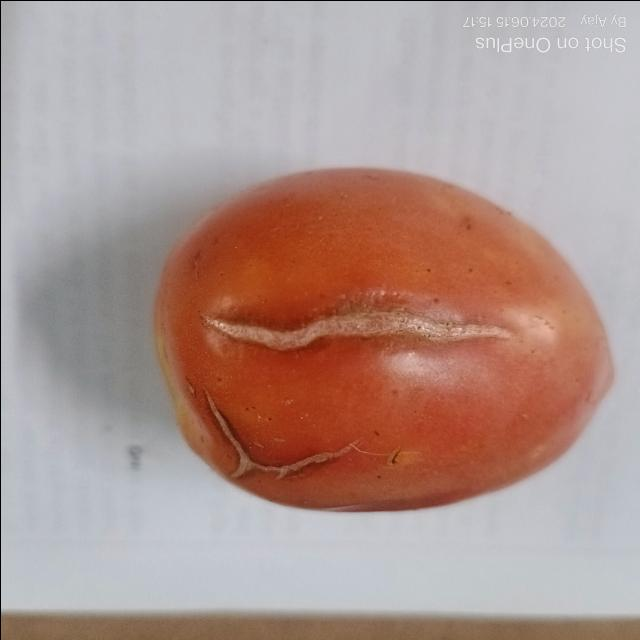tomato_cracking: (203, 298, 523, 351), (237, 447, 362, 482)
